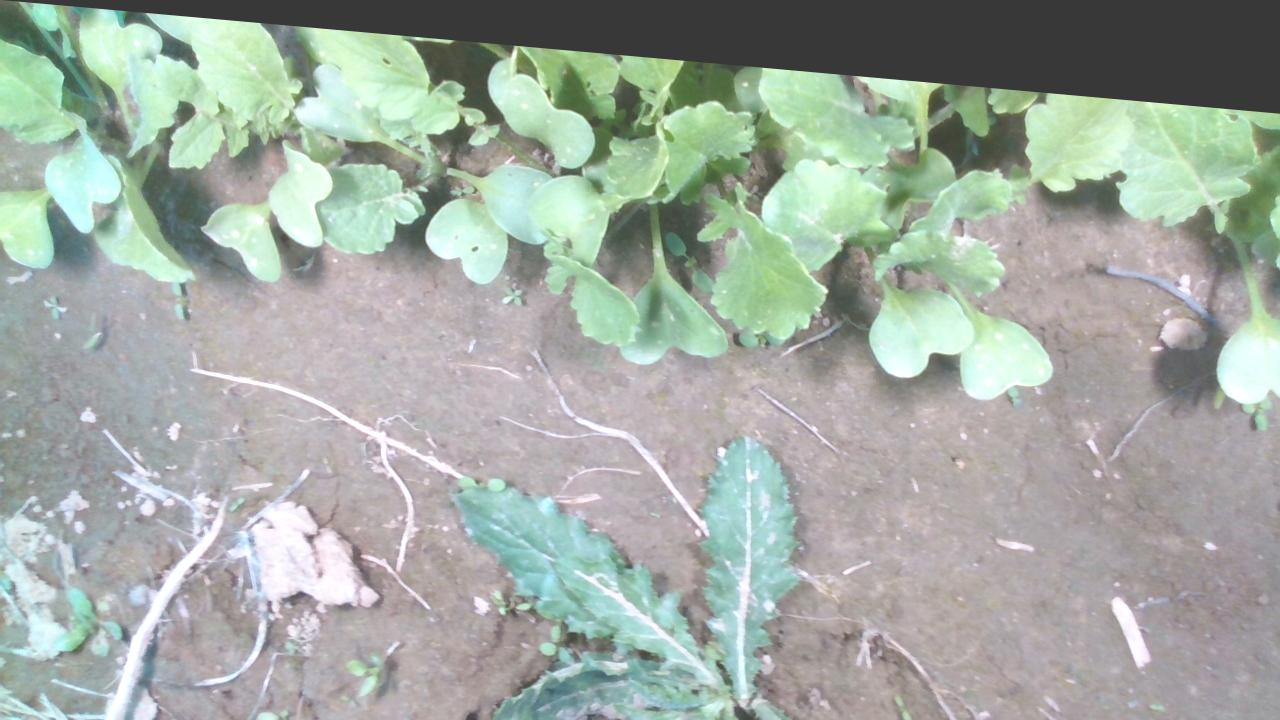weed: (80, 307, 103, 350), (41, 291, 66, 320), (169, 277, 185, 318), (892, 673, 911, 706), (500, 274, 522, 296), (1039, 718, 1072, 719)
